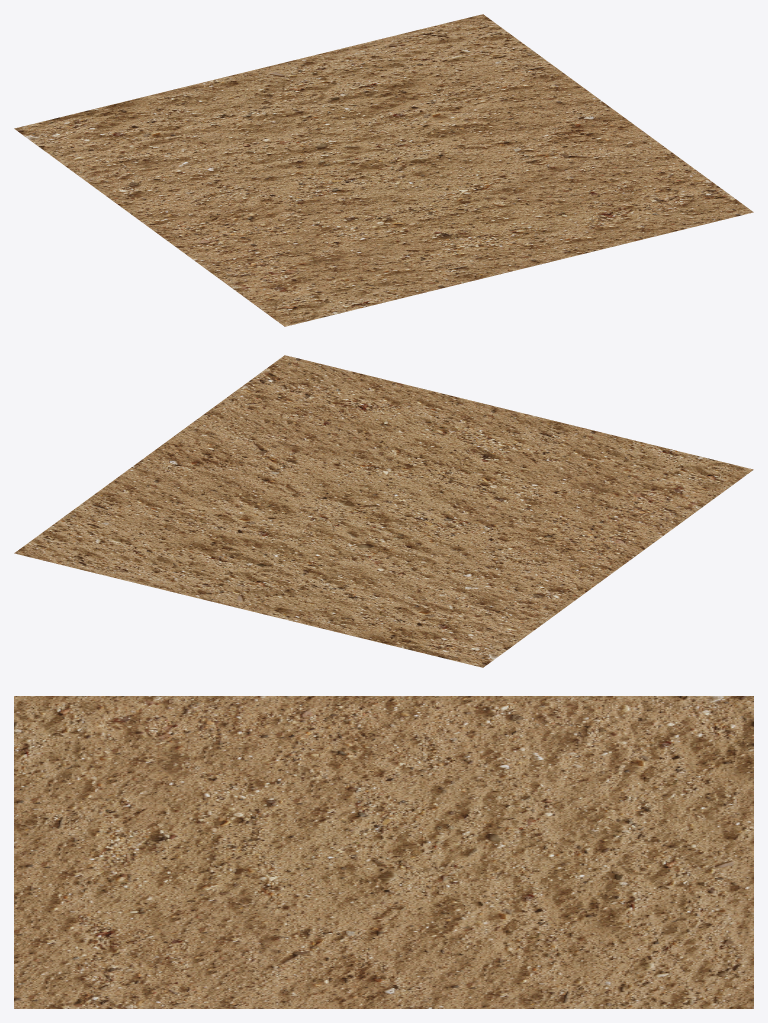
File: sand.obj
The picture shows the model from 3 angles, top to bottom: view 1: azimuth 30°, elevation 25°; view 2: azimuth 150°, elevation 25°; view 3: azimuth 270°, elevation 25°; orthographic projection. The views are drawn at different scales.
Parts seen in each view (by area): view 1: Piso; view 2: Piso; view 3: Piso.
Boxes of the visible parts, <box> form: Piso: <box>14,14,753,326</box>; Piso: <box>14,355,753,667</box>; Piso: <box>14,696,753,1008</box>.
Size of the model in its own units: 5000 by 0 by 5000.
1 material, 1 textured.
